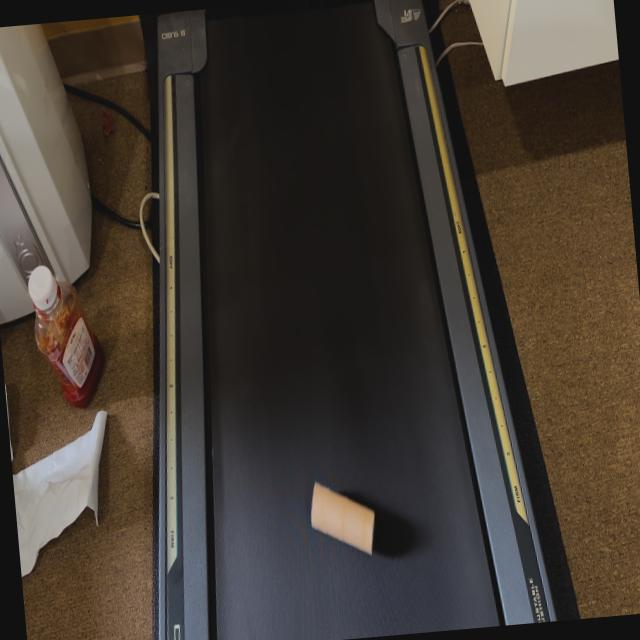Recycle: (306, 469, 382, 566)
